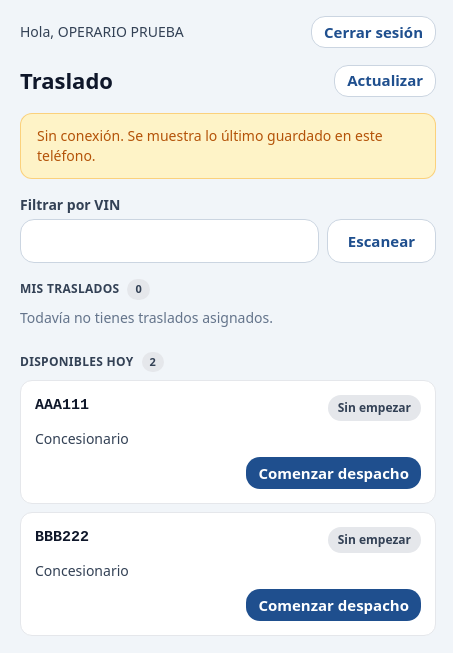
it: AC4 · sin conexión › con las órdenes guardadas, filtrar sigue funcionando sin red
This screenshot has width=453, height=653.
Expected: the text "Sin conexión. Se muestra lo último guardado en este teléfono." is shown, left=20, top=113, right=436, bottom=179
Type "BBB" into the search field labelled "Filtrar por VIN" at (169, 241), box left=20, top=219, right=319, bottom=263
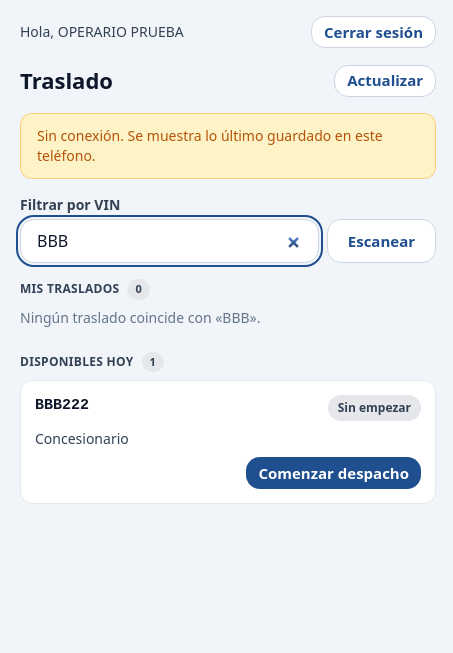
Expected: the text "BBB222" is shown, left=35, top=395, right=89, bottom=418
Now the text "AAA111" is gone
